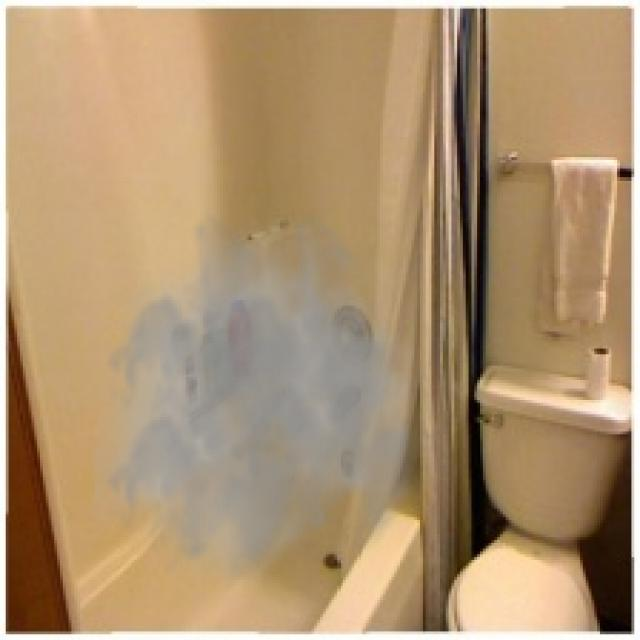smoke: (94, 208, 449, 592)
